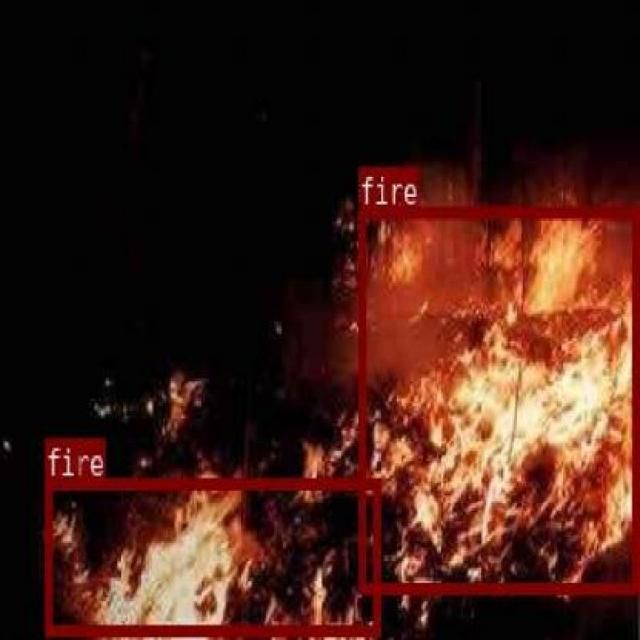Fire: (358, 205, 636, 590), (43, 476, 380, 636)
